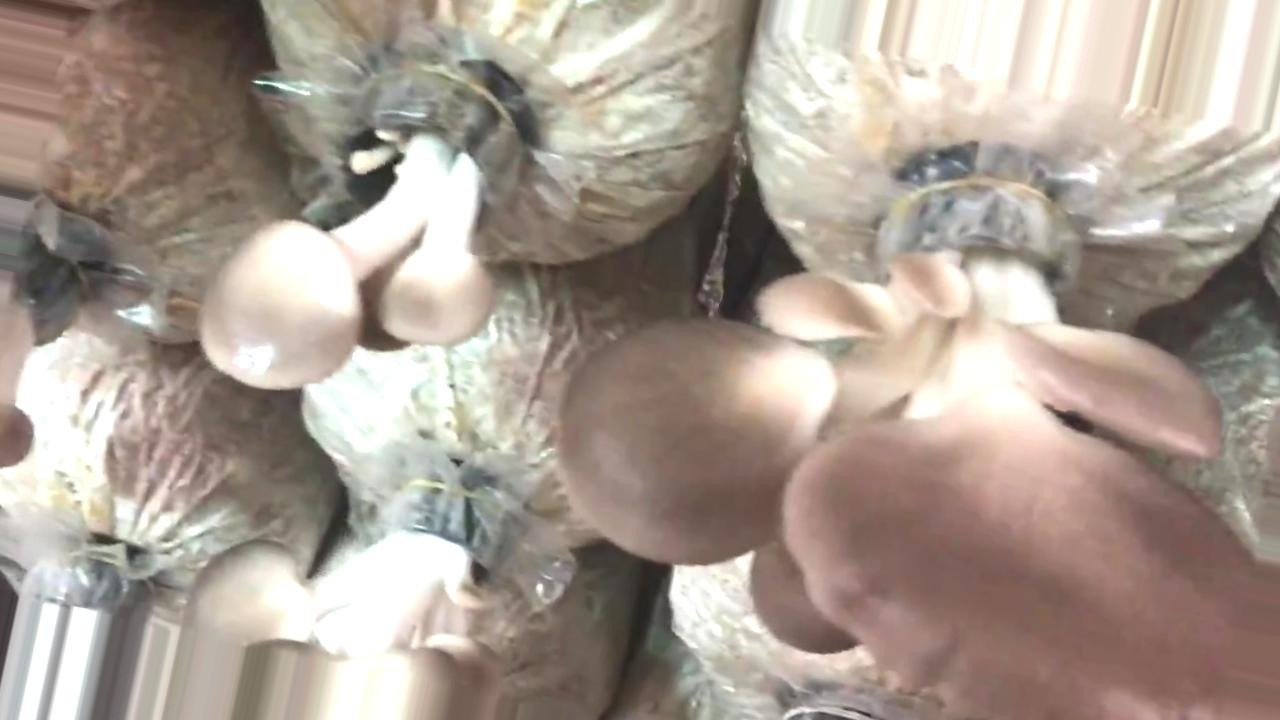nam: (556, 170, 1278, 720), (198, 66, 516, 391), (169, 482, 506, 720), (1, 210, 75, 466)
